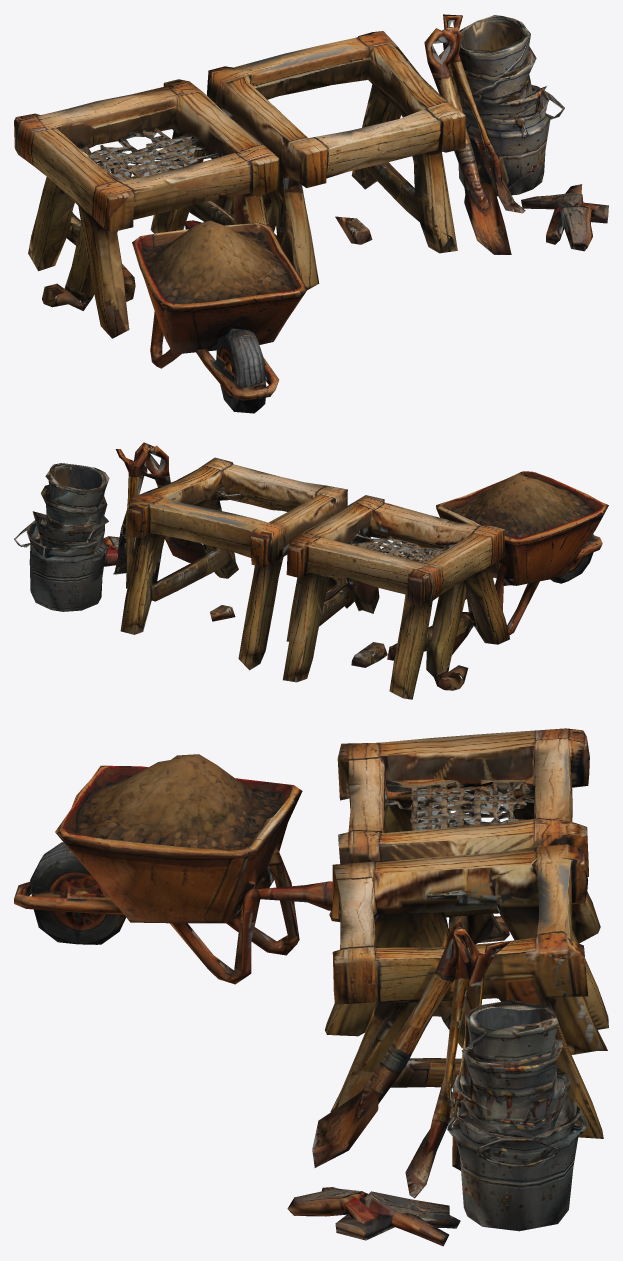
File: EX_Exc_Sifting.fbx
3 views of the same model, one above another, from view 1: azimuth 30°, elevation 25°; view 2: azimuth 150°, elevation 25°; view 3: azimuth 270°, elevation 25° (orthographic). The views are drawn at different scales.
Parts seen in each view (by area): view 1: texture_mapping; view 2: texture_mapping; view 3: texture_mapping.
Part boxes in pixels (bbox=[...]): texture_mapping: bbox=[14, 14, 608, 413]; texture_mapping: bbox=[14, 442, 608, 699]; texture_mapping: bbox=[14, 728, 608, 1246].
Size of the model in its own units: 0.9972 by 0.7411 by 0.3475.
1 material, 1 textured.
